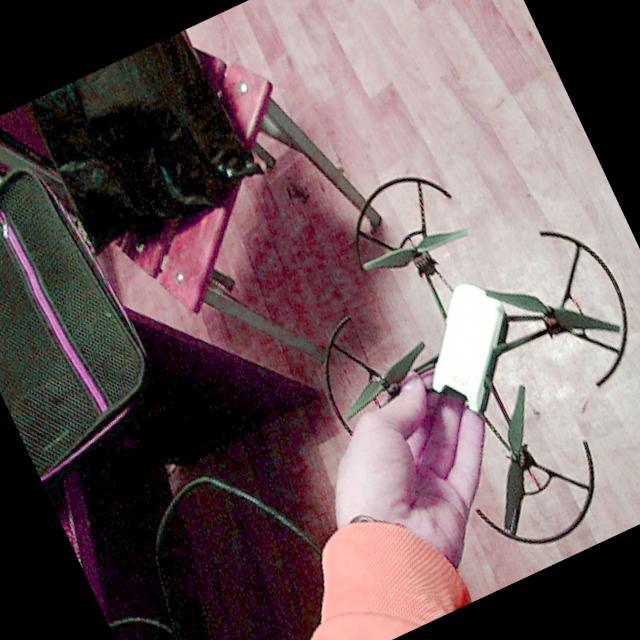drone: (244, 104, 640, 615)
